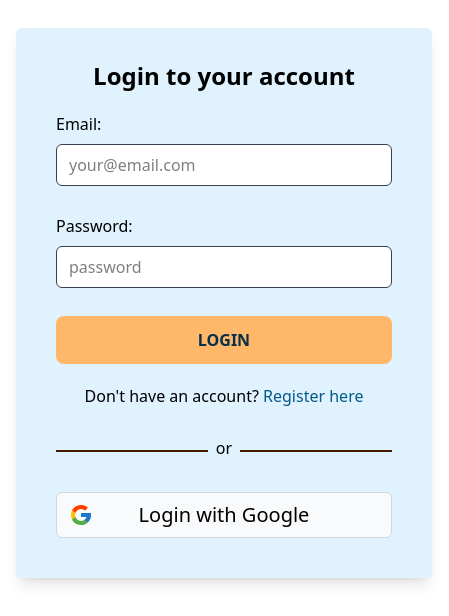
Test case: LoginPage › shows a validation error when submitting empty password
Type "john.doe@email.com" into the field labelled "Email:" at (224, 165), box [56, 144, 392, 186]
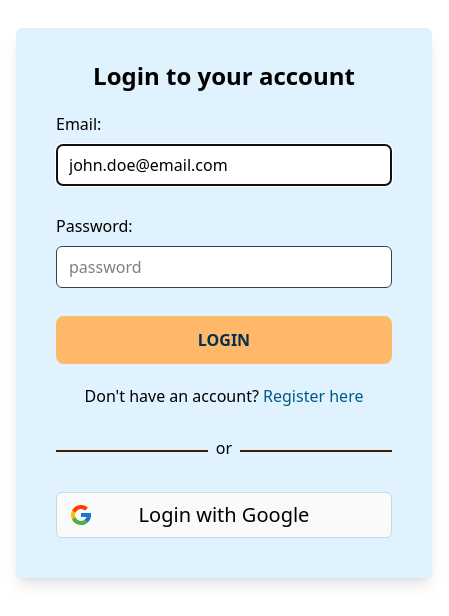
Click the button "LOGIN" at (224, 340), box [56, 316, 392, 364]
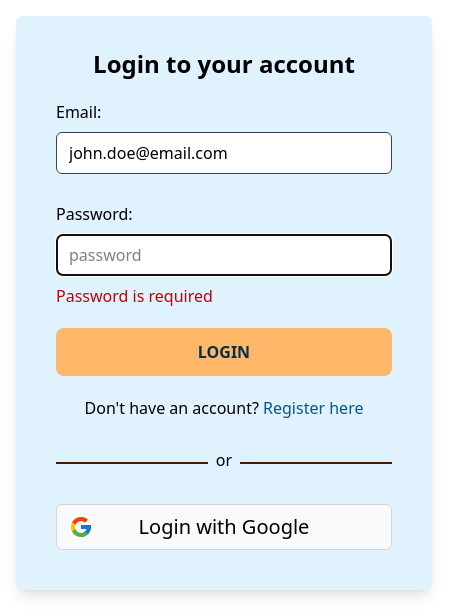
Expected: the text "Password is required" is shown, [56, 285, 213, 307]
